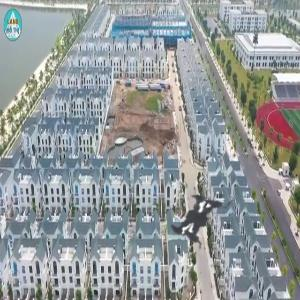drone: (136, 155, 269, 288)
